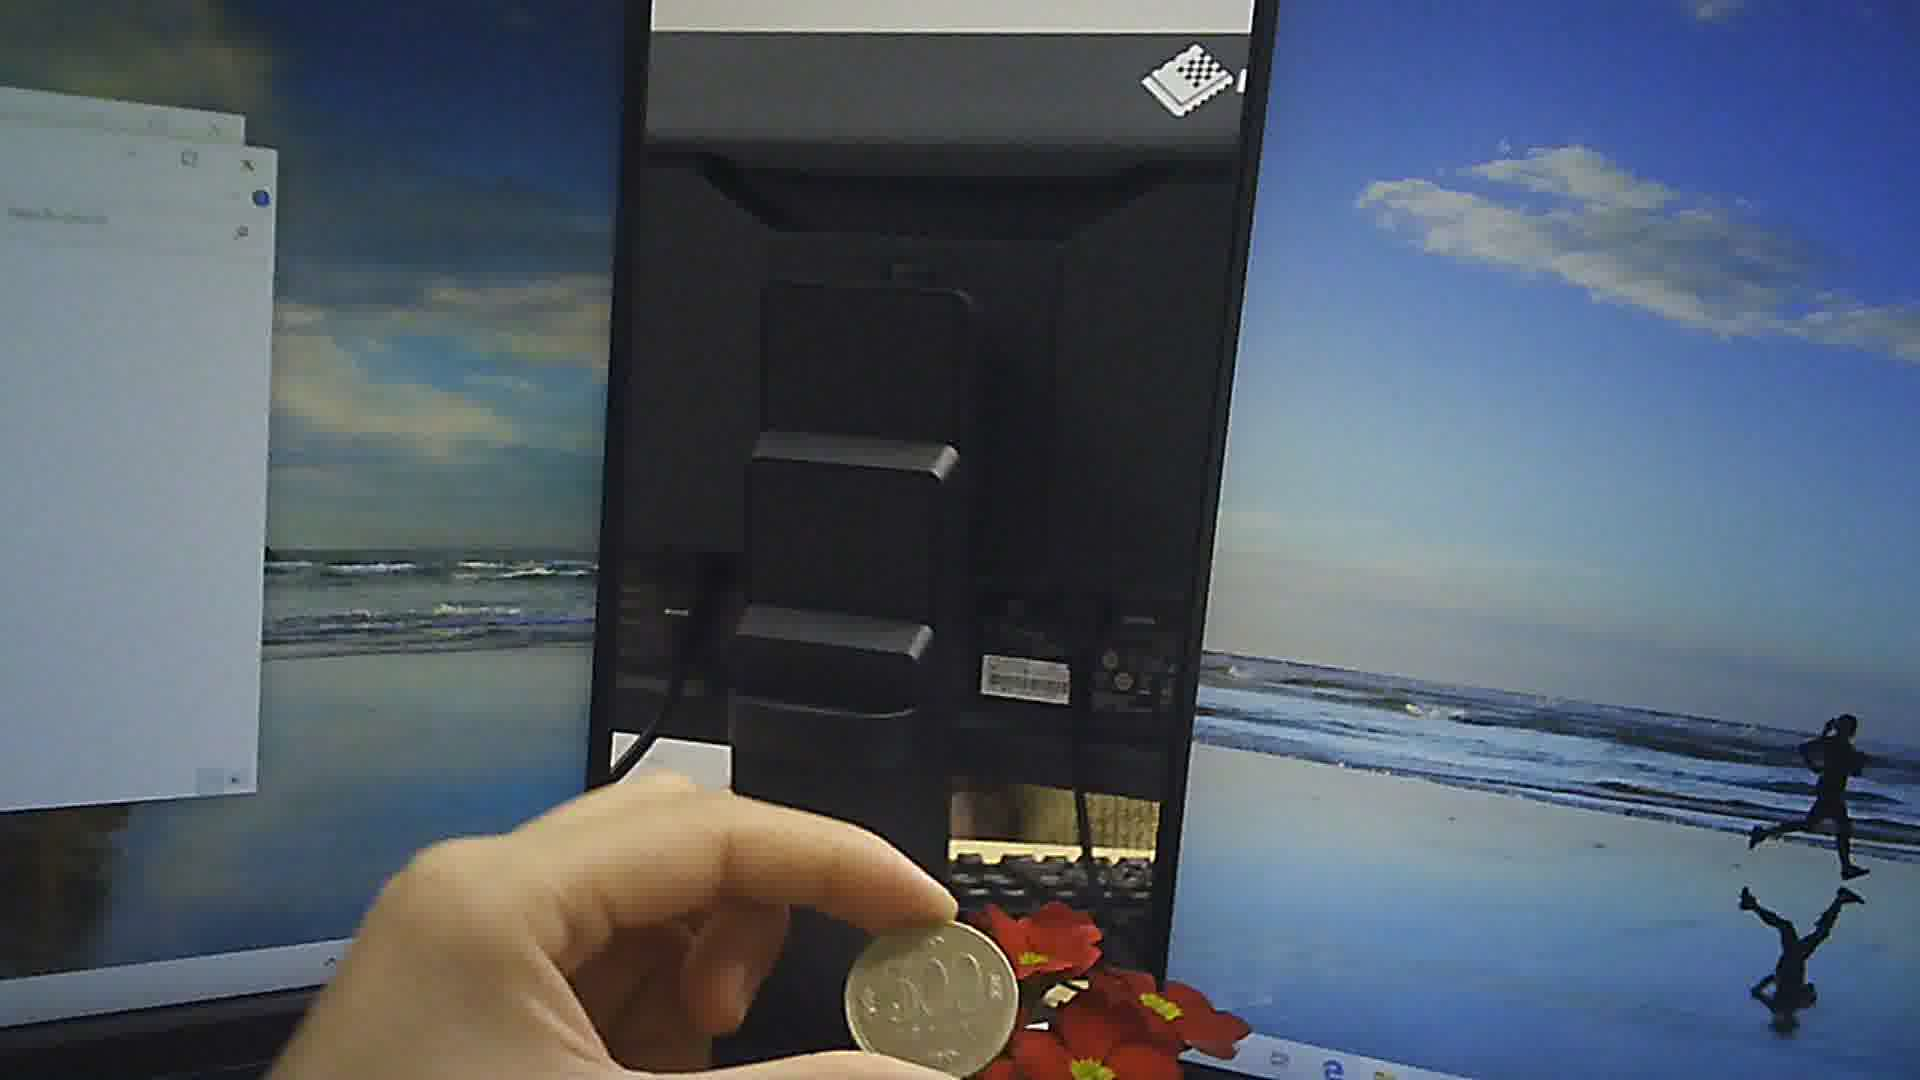500 Yen: (848, 911, 1029, 1079)
